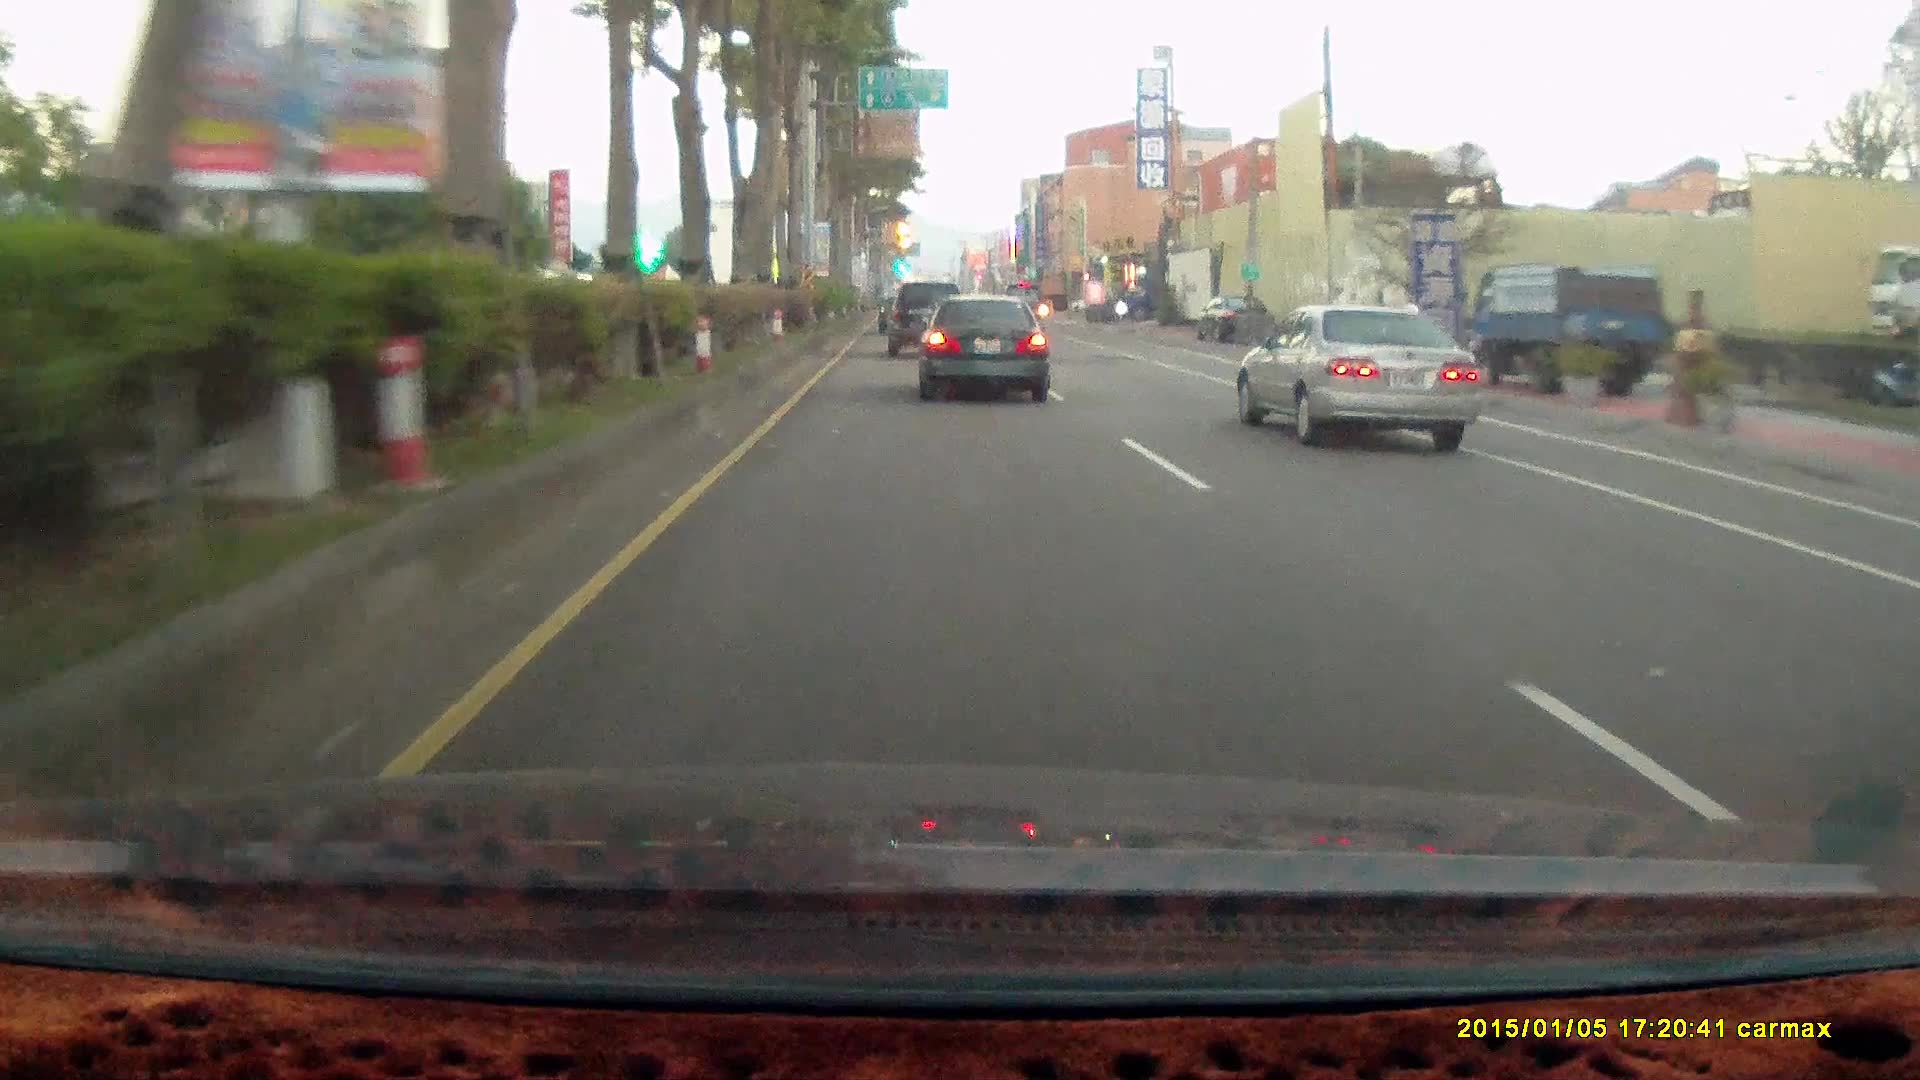vehicle: (1230, 301, 1491, 451), (1234, 301, 1482, 451), (1466, 258, 1664, 400), (1469, 262, 1663, 394), (913, 290, 1048, 398), (920, 295, 1054, 401), (886, 278, 967, 355), (1197, 293, 1279, 344), (1114, 278, 1185, 320)
